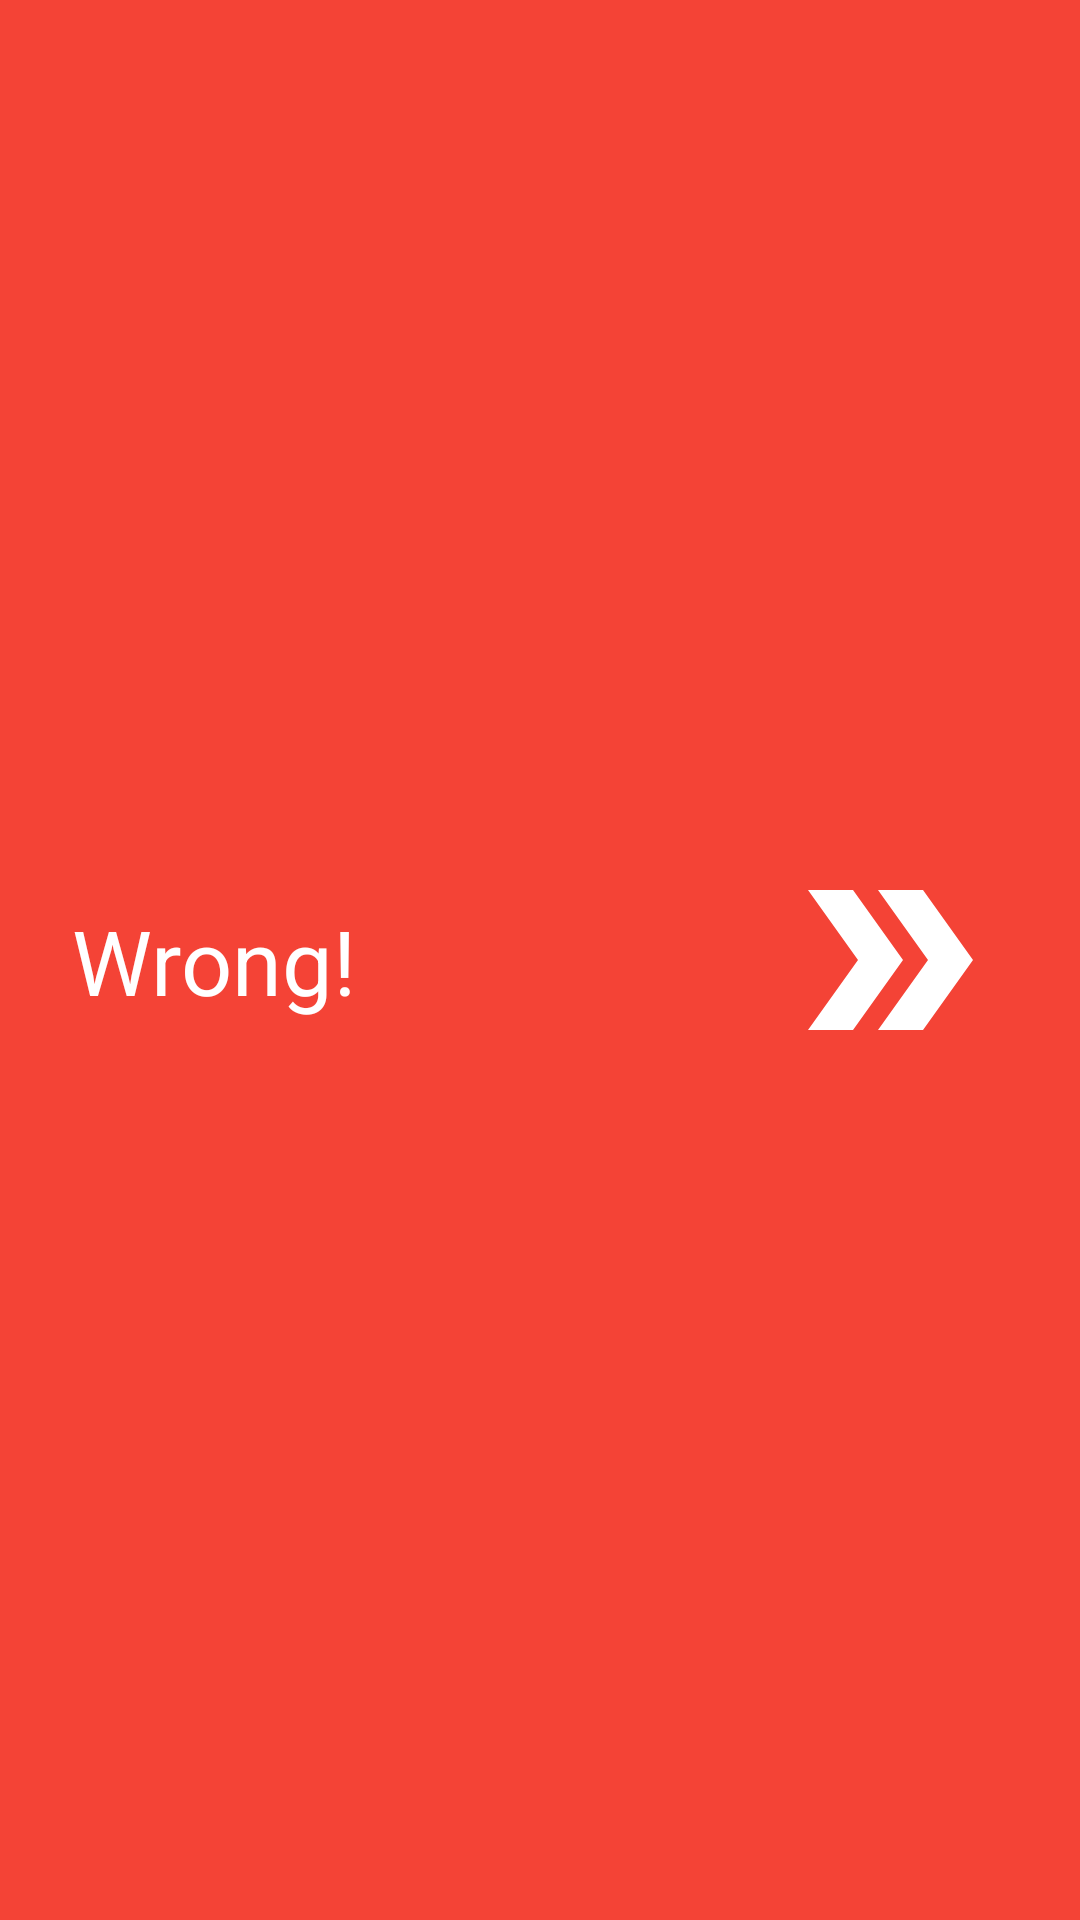

Where icons sit on this 1080 × 1920 app screen, as BBox(x1, y1, x2, y2):
double arrow: BBox(808, 890, 973, 1030)
